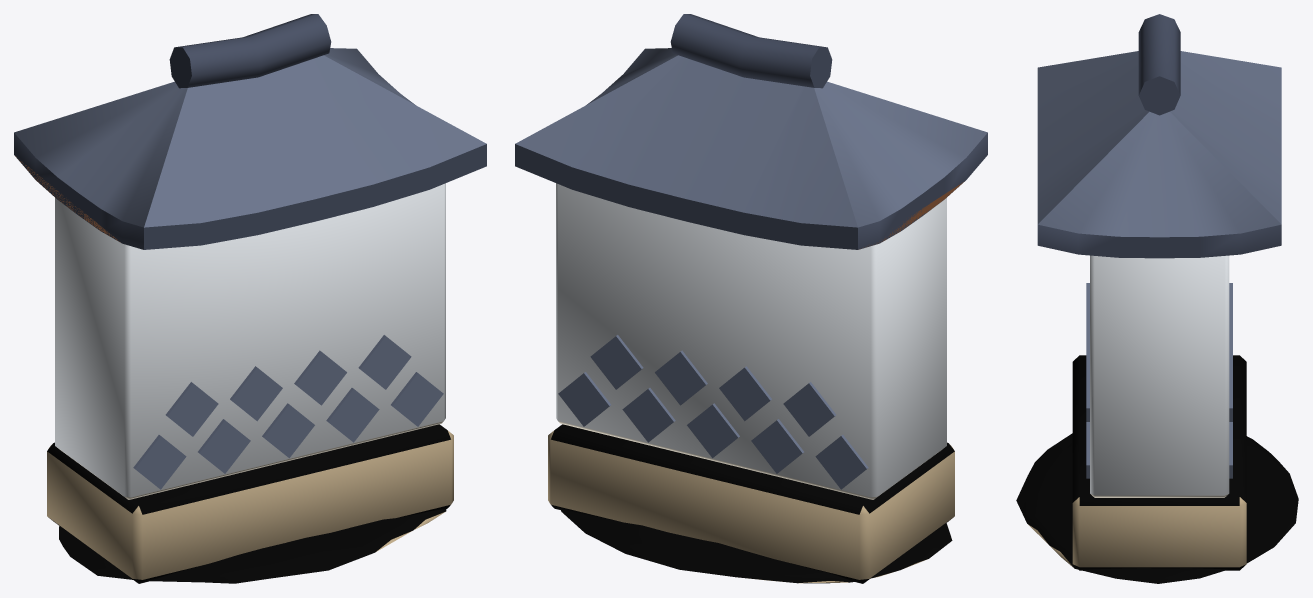
File: PlasterWall.fbx
The picture shows the model from 3 angles, left to right: view 1: azimuth 30°, elevation 25°; view 2: azimuth 150°, elevation 25°; view 3: azimuth 270°, elevation 25°; orthographic projection. The views are drawn at different scales.
Visible parts, largest first — view 1: PlasterWall; view 2: PlasterWall; view 3: PlasterWall.
Part boxes in pixels (left/top/right/bottom): PlasterWall: left=14, top=14, right=486, bottom=583; PlasterWall: left=515, top=14, right=987, bottom=583; PlasterWall: left=1016, top=14, right=1298, bottom=583.
Bounding box in the file's own units: 1.7 × 2.16 × 1.22.
Materials: 1 (1 with a texture image).
